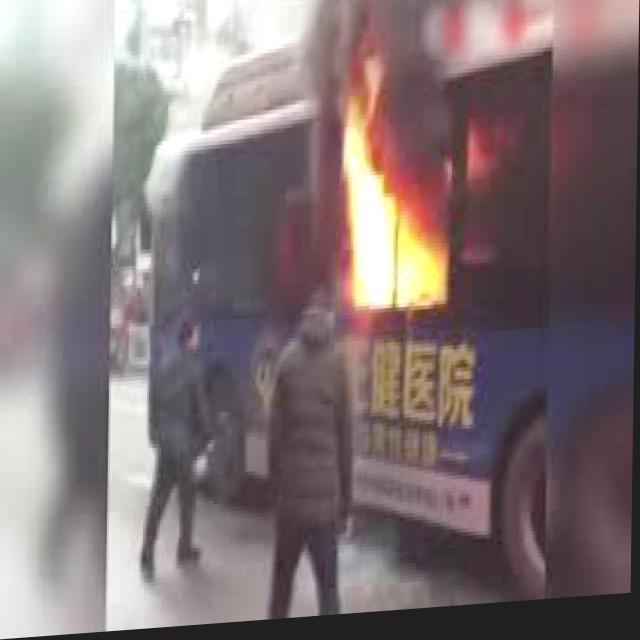Fire: (317, 53, 473, 338)
